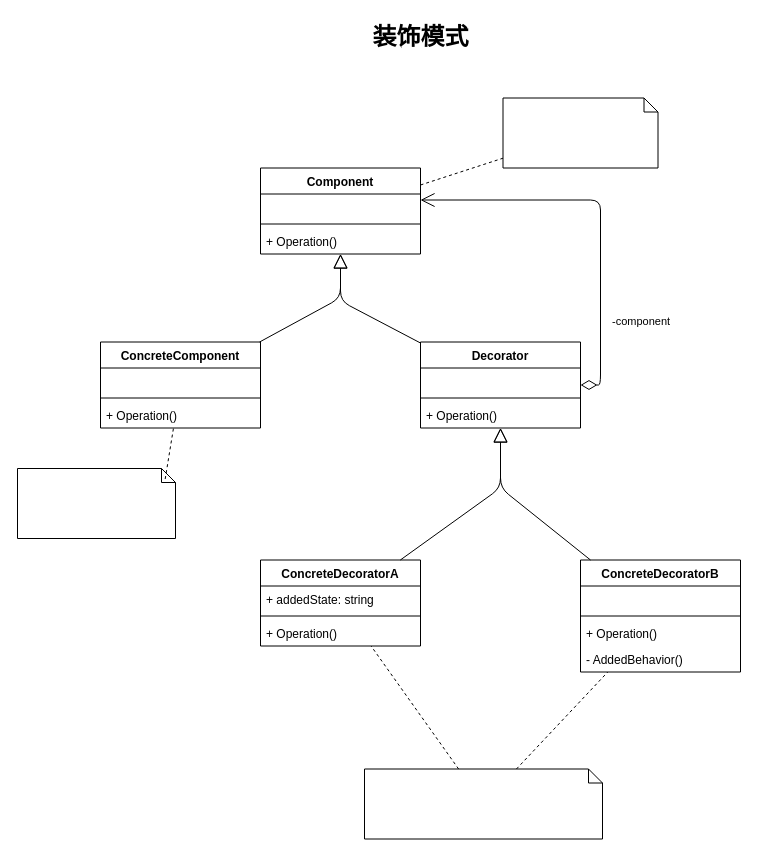
The diagram is 758 pixels wide and 856 high, and some of its shapes have lost their labels. The centre of each missing label's shape, as x and y in pixels:
Component是定义一个对象接口，可以给这些对象动态地添加职责: the point at 580,132
ConcreteComponent是定义了一个具体的对象，也可以给这个对象添加一些职责: the point at 96,503
ConcreteDecorator就是具体的装饰对象，起到给Component添加职责的功能: the point at 483,803
